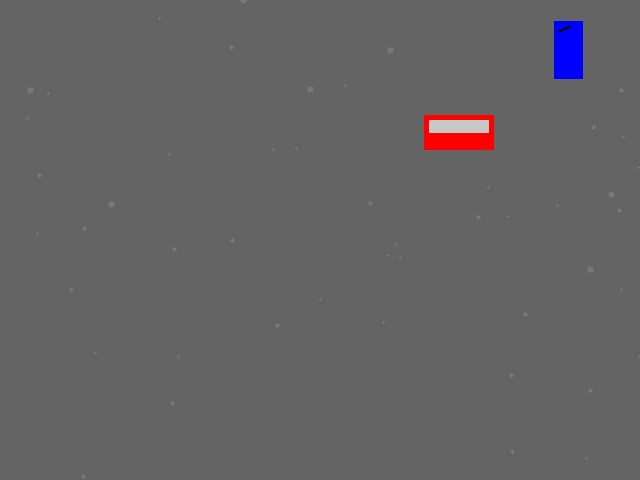car: (424, 115, 493, 149)
motorcycle: (554, 21, 582, 78)
